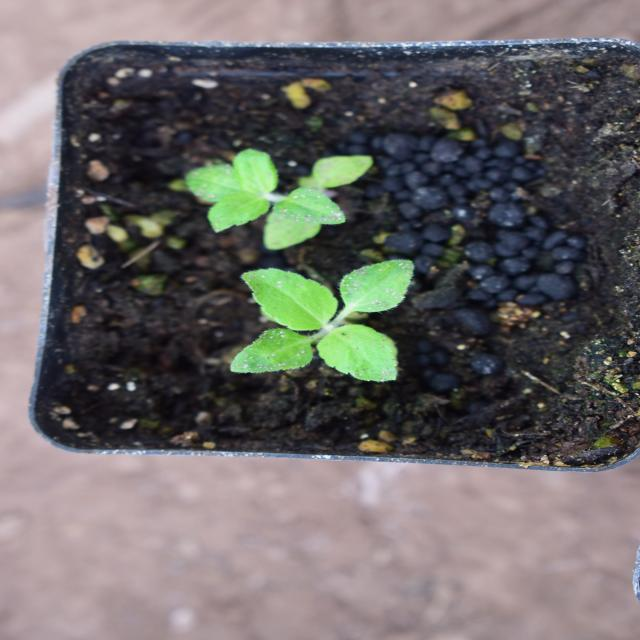billygoat_weed: (258, 216, 392, 413), (398, 183, 508, 376)
